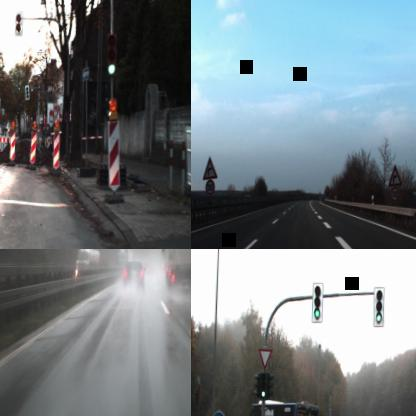bend: (203, 156, 219, 181), (388, 164, 402, 188)
give way: (257, 348, 272, 370)
keep right: (210, 410, 226, 416)
speed limit 100: (205, 178, 215, 196), (390, 186, 400, 202)
